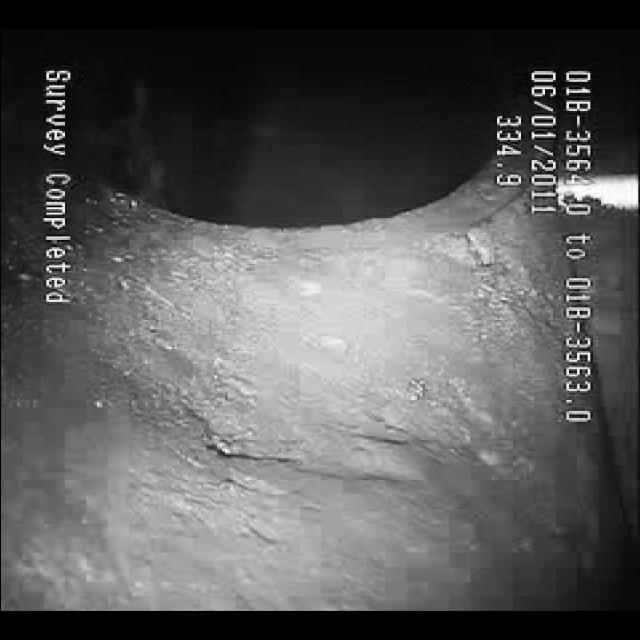Crack: (160, 388, 430, 504)
